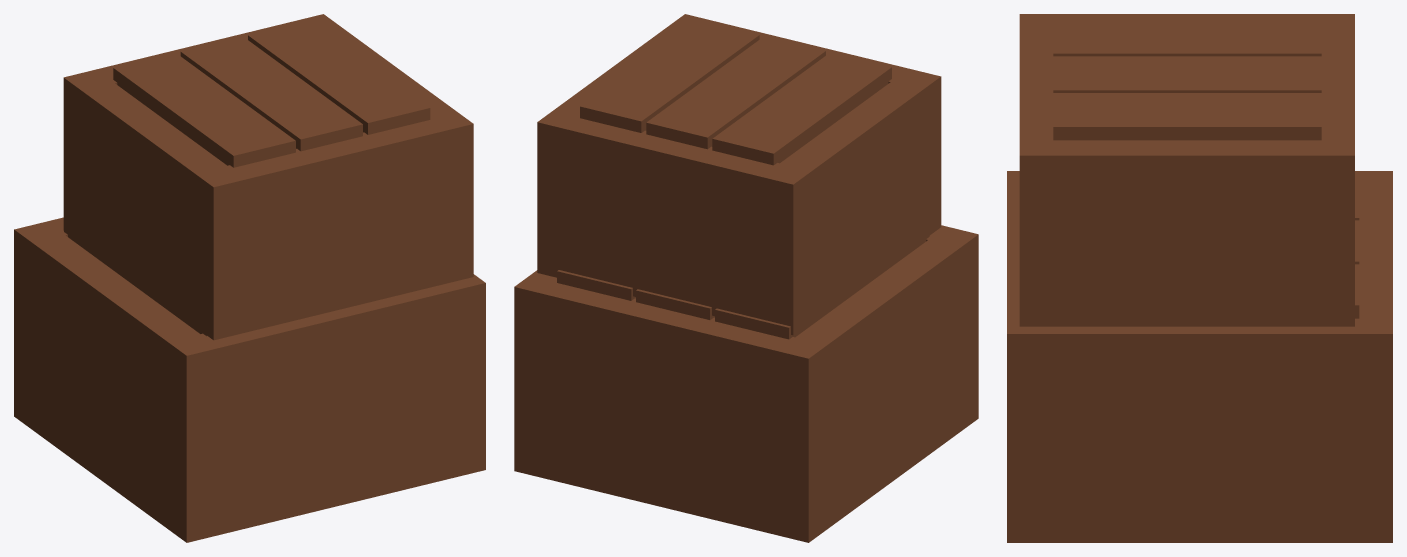
The model's file is terrain_crate.3.glb.
The picture shows the model from 3 angles, left to right: view 1: azimuth 30°, elevation 25°; view 2: azimuth 150°, elevation 25°; view 3: azimuth 270°, elevation 25°; orthographic projection. The views are drawn at different scales.
Visible parts, largest first — view 1: terrain_crate; view 2: terrain_crate; view 3: terrain_crate.
Part boxes in pixels (box(x1,y1,x2,y2)): terrain_crate: box(14, 14, 485, 542); terrain_crate: box(514, 14, 978, 542); terrain_crate: box(1007, 14, 1392, 542).
Size of the model in its own units: 0.92 by 1.05 by 0.92.
